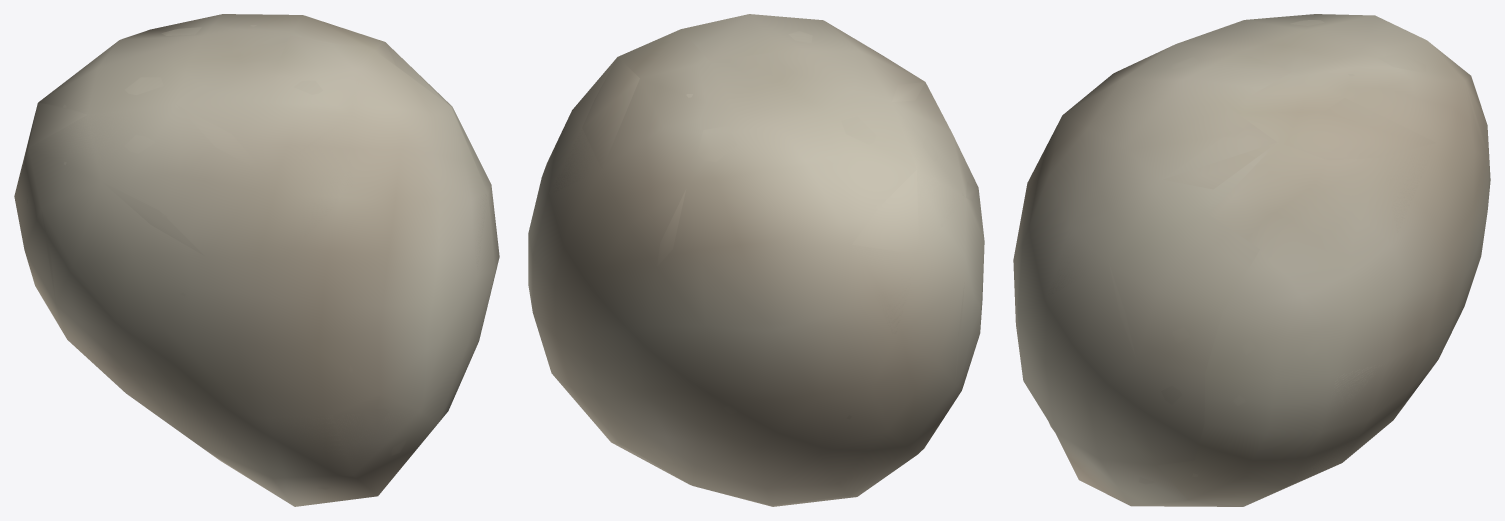
File: R carpi ulnare.fbx
3 renders of one model, left to right at view 1: azimuth 30°, elevation 25°; view 2: azimuth 150°, elevation 25°; view 3: azimuth 270°, elevation 25°, orthographic. The views are drawn at different scales.
Parts seen in each view (by area): view 1: R carpi ulnare, R carpi ulnare low, R carpi ulnare high; view 2: R carpi ulnare, R carpi ulnare low, R carpi ulnare high; view 3: R carpi ulnare, R carpi ulnare low, R carpi ulnare high.
Boxes of the visible parts, x1=… form: R carpi ulnare: x1=14, y1=14, x2=499, y2=506; R carpi ulnare low: x1=17, y1=42, x2=499, y2=505; R carpi ulnare high: x1=26, y1=25, x2=493, y2=490; R carpi ulnare: x1=528, y1=14, x2=984, y2=506; R carpi ulnare low: x1=549, y1=57, x2=978, y2=504; R carpi ulnare high: x1=574, y1=31, x2=968, y2=501; R carpi ulnare: x1=1013, y1=14, x2=1490, y2=506; R carpi ulnare low: x1=1048, y1=76, x2=1488, y2=478; R carpi ulnare high: x1=1049, y1=20, x2=1426, y2=484.
Bounding box in the file's own units: 0.2696 × 0.2678 × 0.2656.
1 material, 1 textured.
